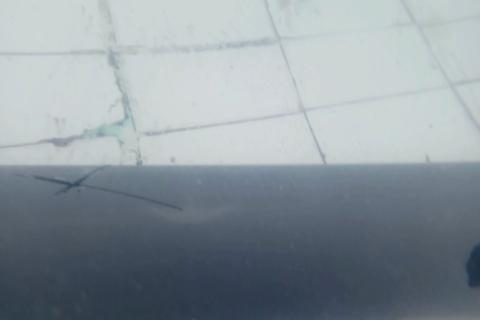keretakan: (16, 166, 185, 212)
